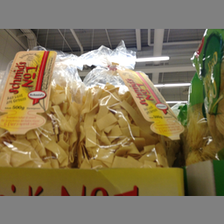pasta: (79, 65, 179, 167), (1, 47, 80, 168)
